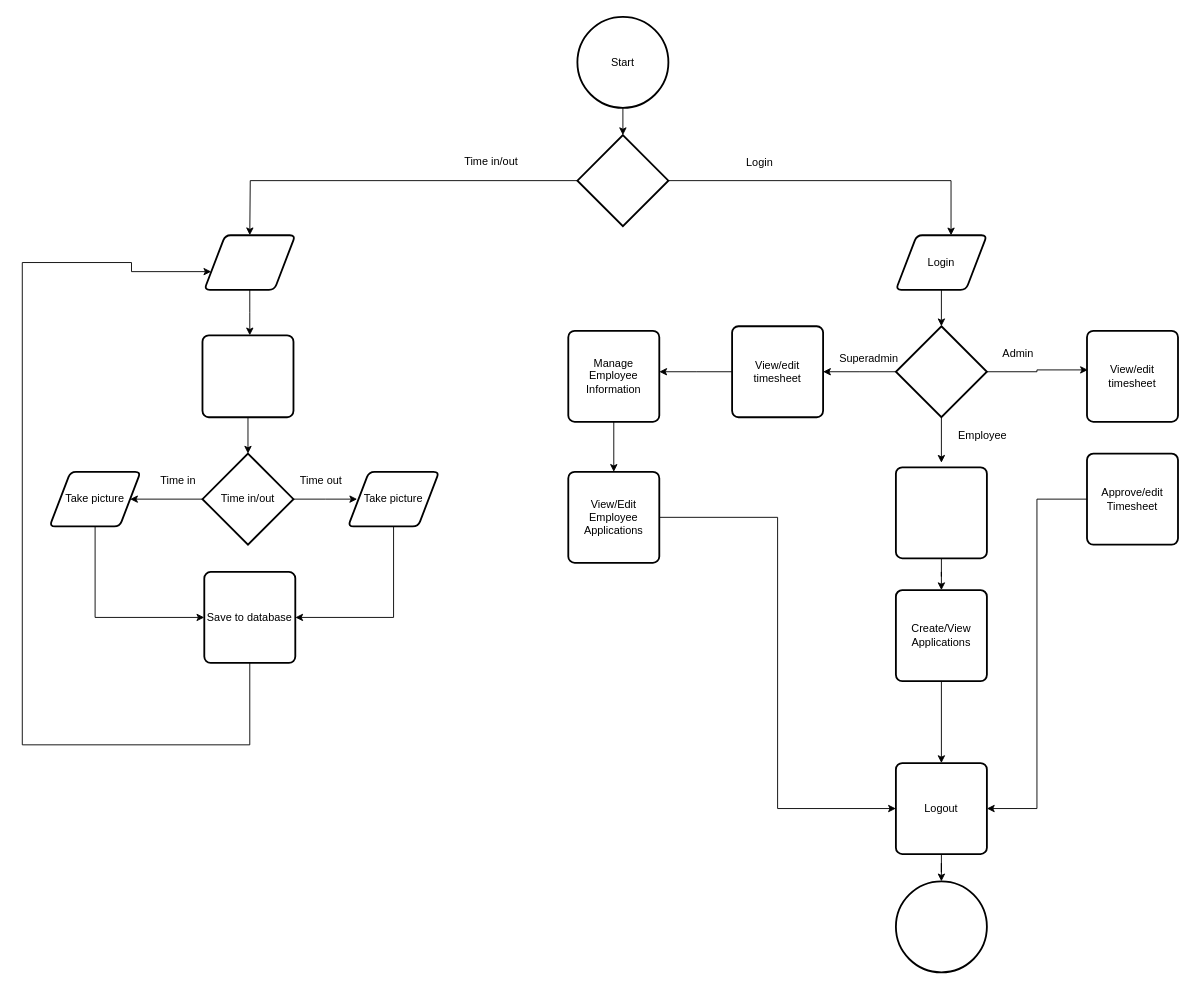
This 1195x988 diagram has some shape labels left out. The centre of each missing label's shape, as x and y in pixels:
"END" belongs at point 941,926.
"Input ID" belongs at point 249,262.
"Verify if valid" belongs at point 247,376.
"View Timesheet" belongs at point 941,512.
"Where" belongs at point 622,180.
"Which account" belongs at point 941,371.
